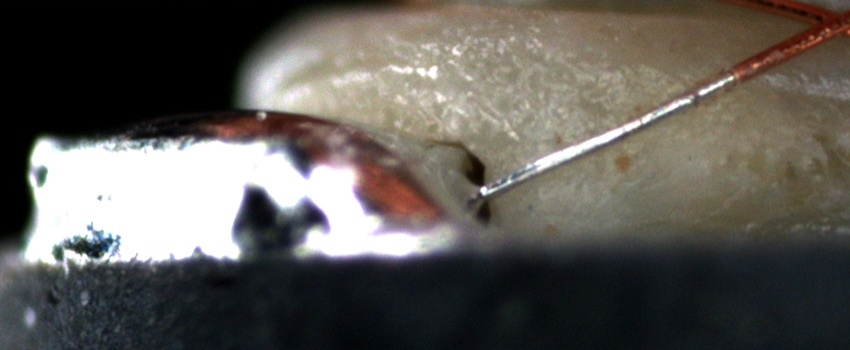CL: (781, 0, 846, 47)
DL: (666, 59, 850, 99)
TS: (476, 69, 738, 201)
